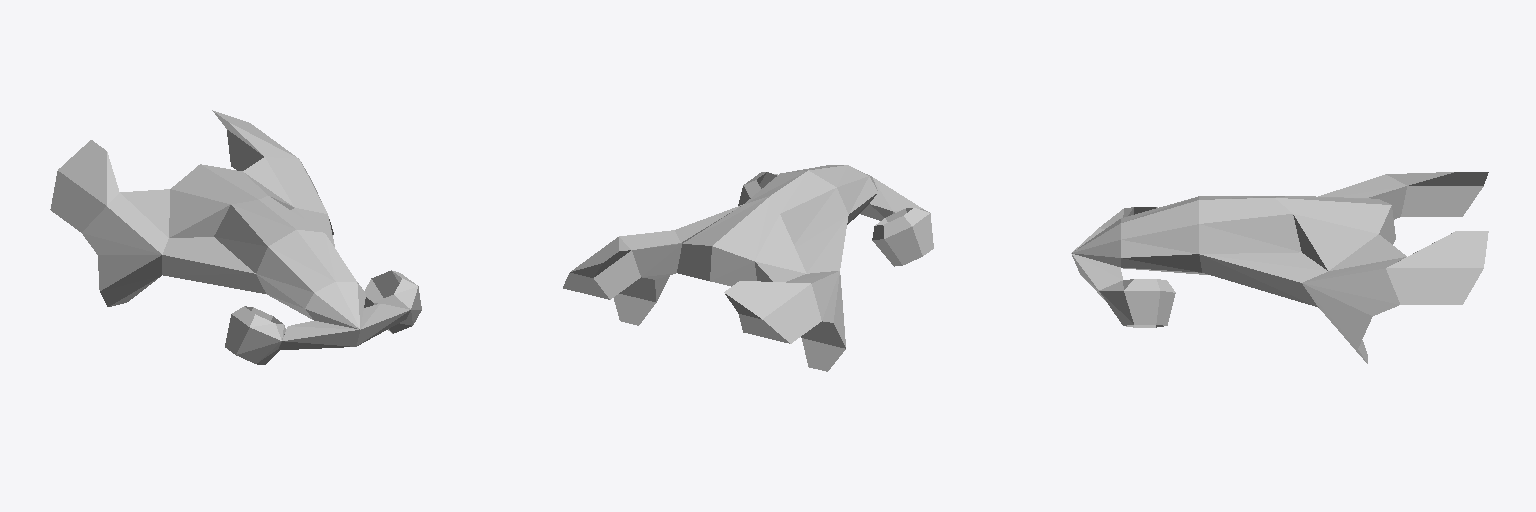
The model's file is Jaero.obj.
The picture shows the model from 3 angles: view 1: azimuth 30°, elevation 25°; view 2: azimuth 150°, elevation 25°; view 3: azimuth 270°, elevation 25°; orthographic projection.
Parts seen in each view (by area): view 1: default; view 2: default; view 3: default.
Boxes of the visible parts, x1=… form: default: x1=50, y1=110, x2=421, y2=364; default: x1=563, y1=165, x2=933, y2=371; default: x1=1071, y1=172, x2=1488, y2=363.
Size of the model in its own units: 3.95 by 1.88 by 6.09.